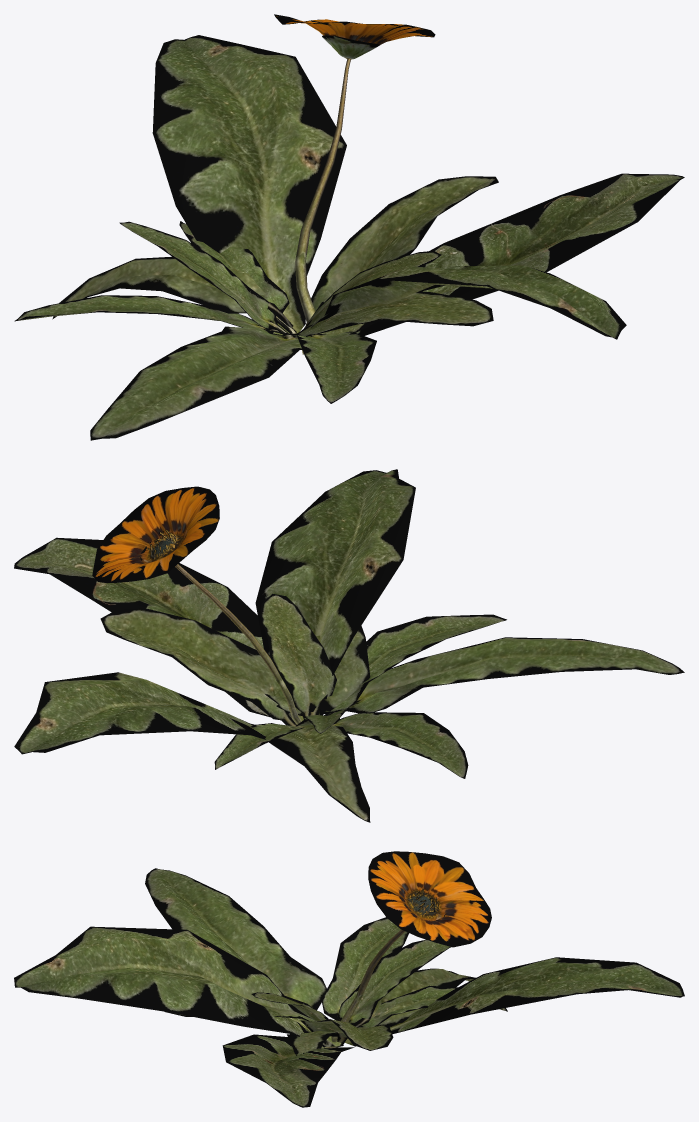
Rendered from flower_gazania_08.glb.
The picture shows the model from 3 angles, top to bottom: view 1: azimuth 30°, elevation 25°; view 2: azimuth 150°, elevation 25°; view 3: azimuth 270°, elevation 25°; orthographic projection. The views are drawn at different scales.
Visible parts, largest first — view 1: flower_gazania; view 2: flower_gazania; view 3: flower_gazania.
Part boxes in pixels (left/top/right/bottom): flower_gazania: left=14, top=14, right=684, bottom=440; flower_gazania: left=14, top=469, right=684, bottom=822; flower_gazania: left=14, top=851, right=684, bottom=1107.
Bounding box in the file's own units: 0.2457 × 0.0998 × 0.2664.
Materials: 1 (1 with a texture image).
